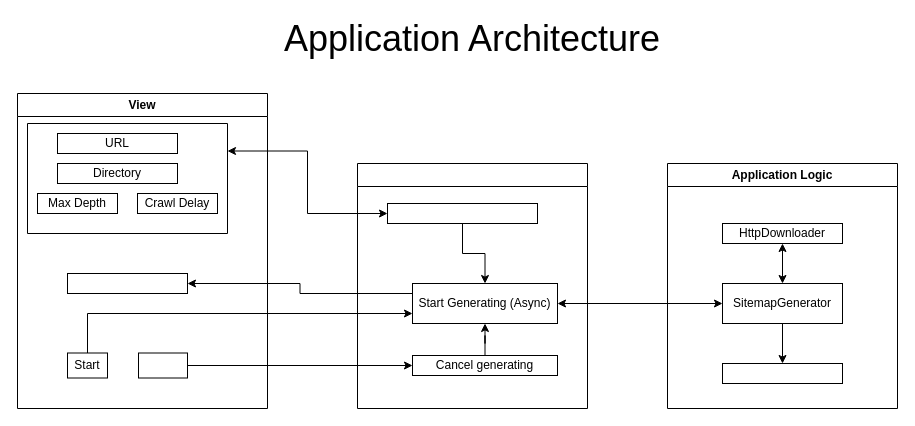
Image size: 915x426. Some labels were removed from this diagram. The shapes that lost their labels are listed below. From the top down, each one's box as (x1, y1, x2, y2) in pixels, then its label:
(386, 202, 538, 224): Data input filter
(66, 272, 188, 294): Progress & Status
(356, 162, 588, 408): Main Window View Model
(138, 352, 188, 378): Cancel
(722, 362, 842, 384): Write to Disk
